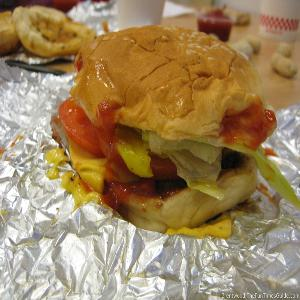cheeseburger: (54, 16, 284, 237)
